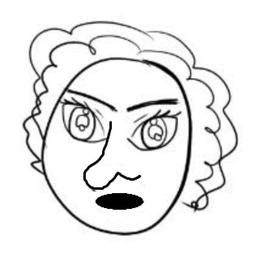eye: (55, 98, 110, 141), (122, 111, 180, 150)
eyebrow: (124, 95, 180, 113)
frowning_eyebrow: (64, 88, 116, 112)
large_nose: (83, 120, 140, 191)
open_mouth: (94, 192, 148, 212)
